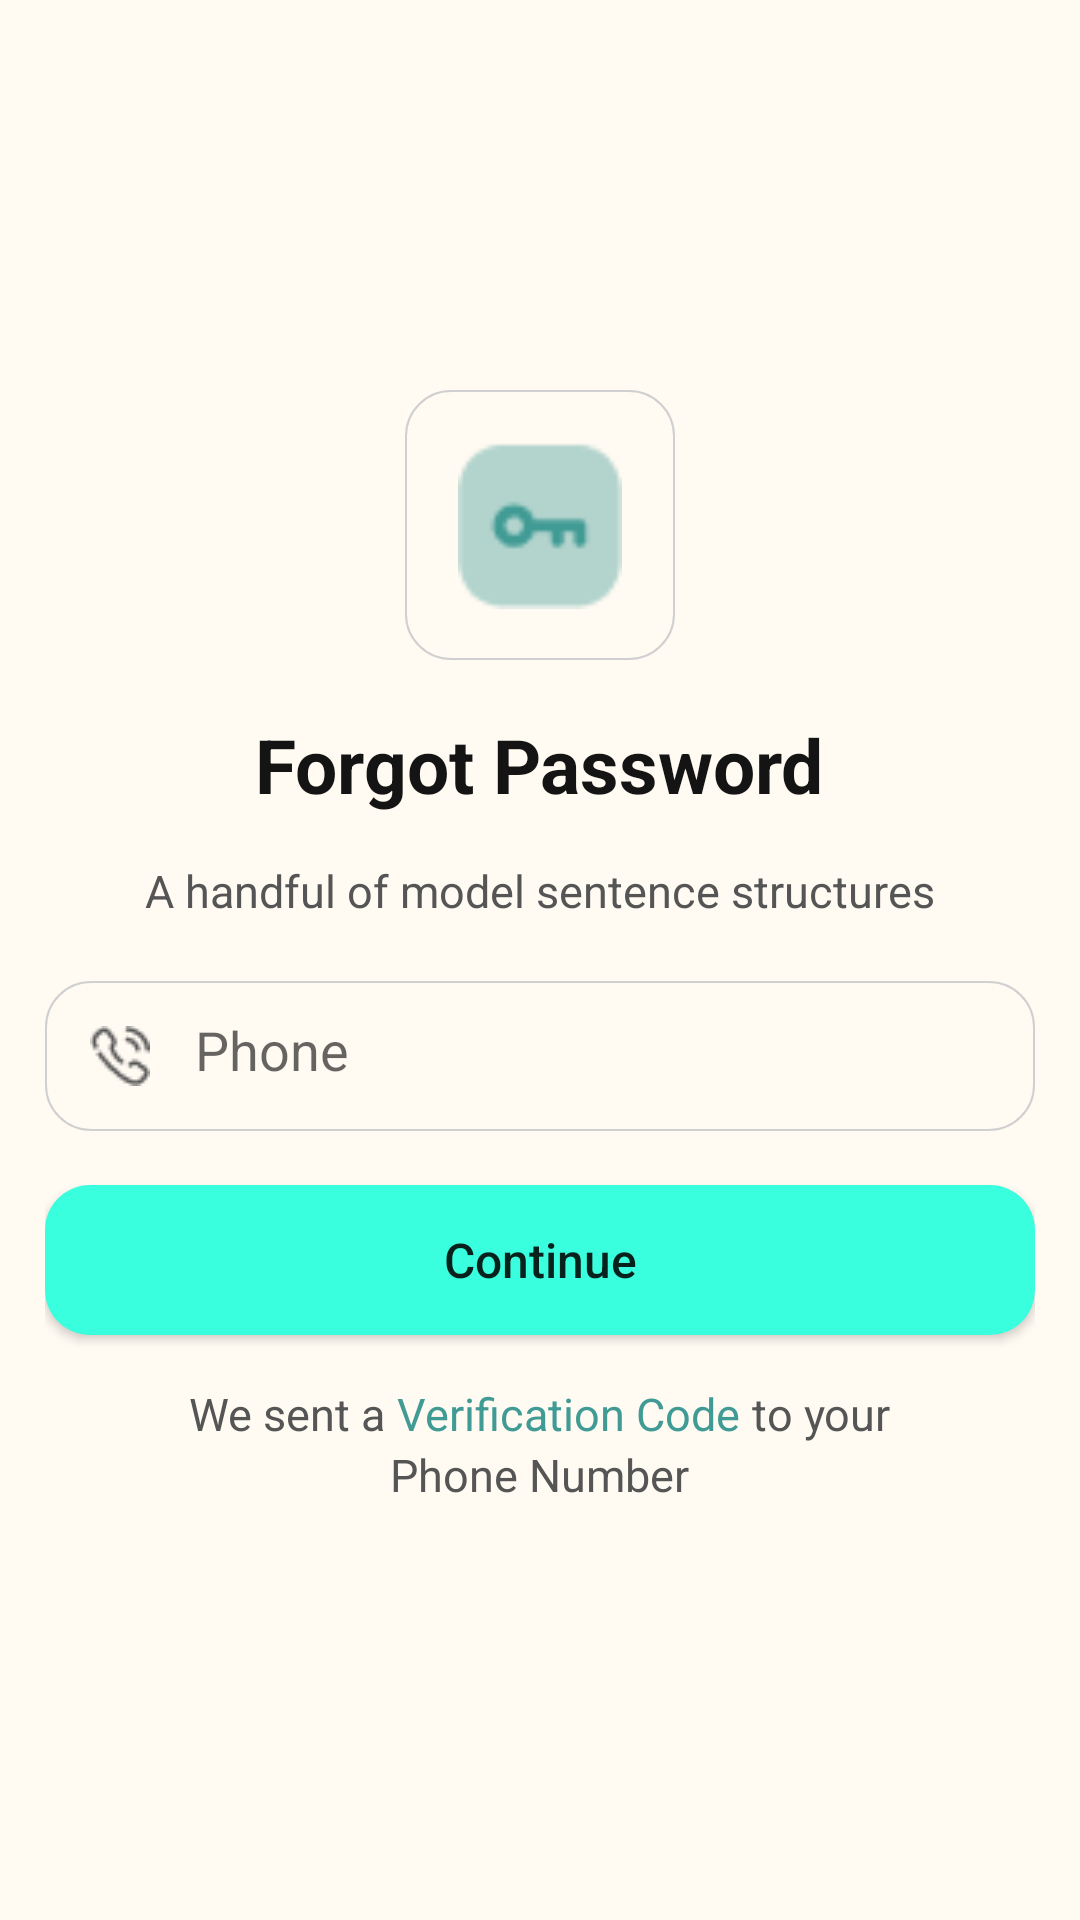

Point at icon controls on the screen. Image size 1080×1920, points as [x,y].
passicon: [540,525]
